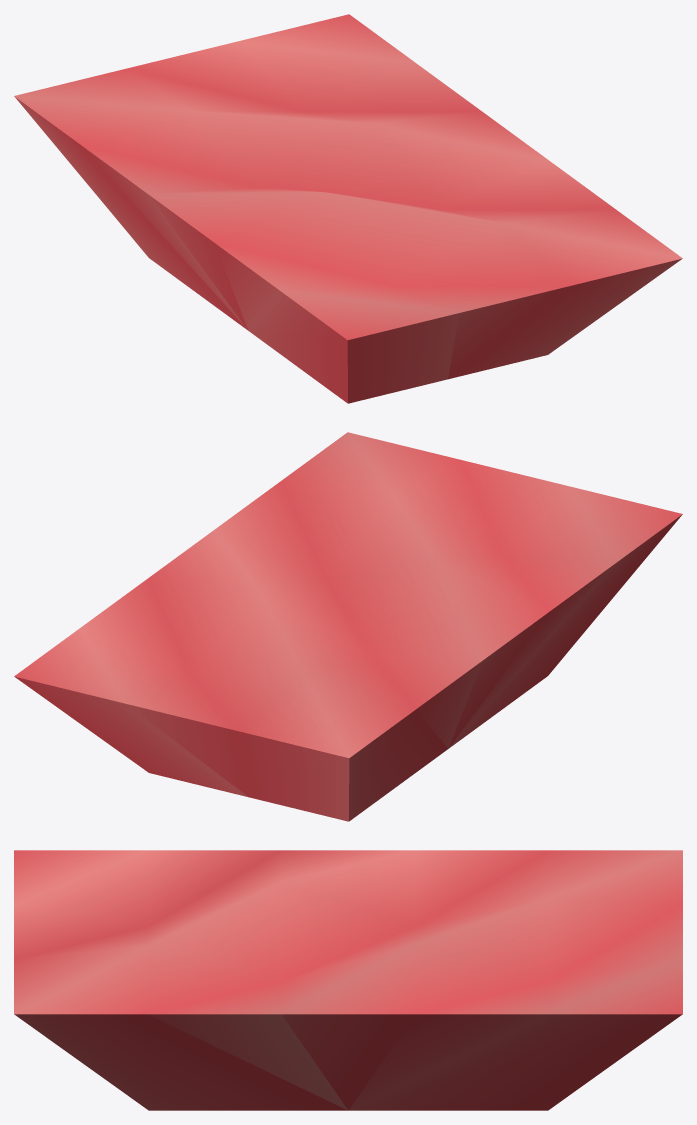
Rendered from icecream_container_icecream_strawberry.obj.
3 views of the same model, one above another, from view 1: azimuth 30°, elevation 25°; view 2: azimuth 150°, elevation 25°; view 3: azimuth 270°, elevation 25° (orthographic).
Visible parts, largest first — view 1: icecream_container_icecream_strawberry_Cube.378; view 2: icecream_container_icecream_strawberry_Cube.378; view 3: icecream_container_icecream_strawberry_Cube.378.
Boxes of the visible parts, box(x1,y1,x2,y2) form: icecream_container_icecream_strawberry_Cube.378: box(14, 14, 682, 403); icecream_container_icecream_strawberry_Cube.378: box(14, 432, 682, 821); icecream_container_icecream_strawberry_Cube.378: box(14, 850, 682, 1110).
Size of the model in its own units: 0.8144 by 0.3534 by 1.4.
1 material, 1 textured.
